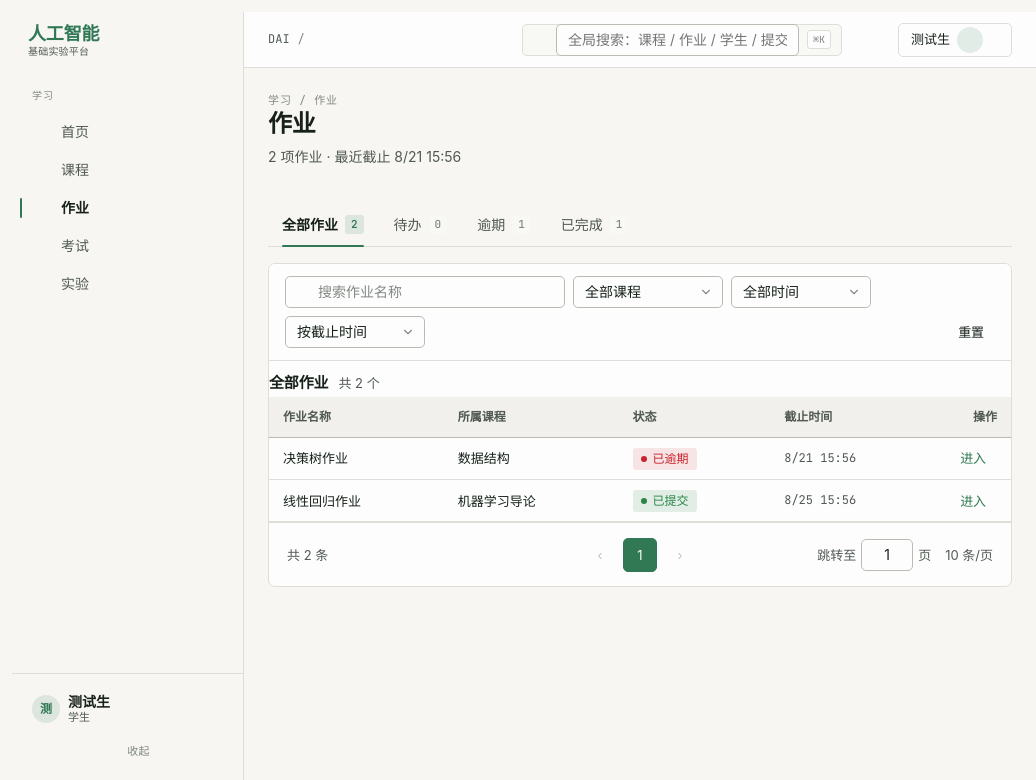
Test: 作业列表 AssignmentListView › 课程筛选仅显示所选课程作业
Select "机器学习导论" in the dropdown with class "filter-course" at (648,292), box [574,277,722,307]
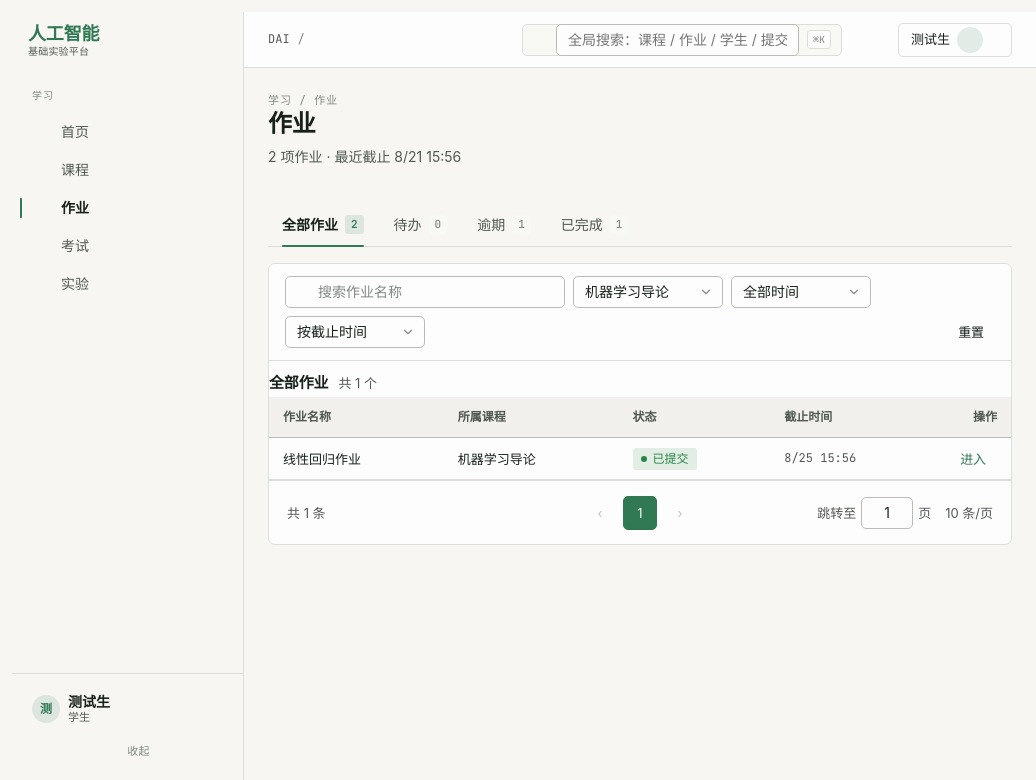
Expected: the text "线性回归作业" is shown, [283,451,361,467]
Result: the text "决策树作业" is gone
